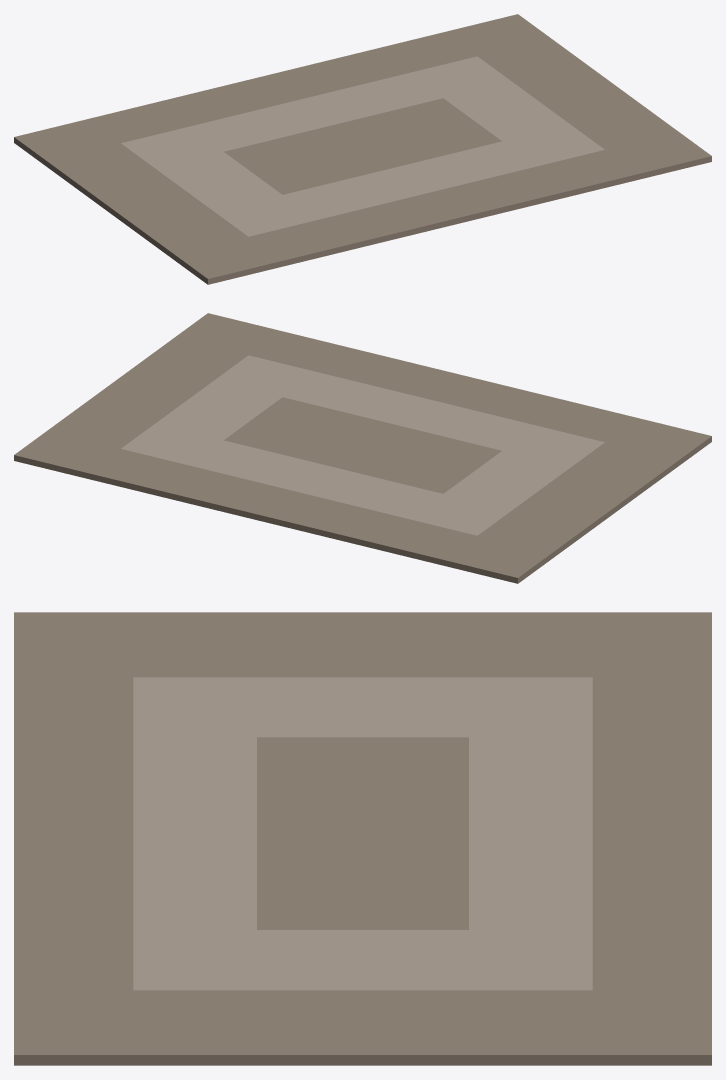
File: Carpet2_C3.fbx
The picture shows the model from 3 angles, top to bottom: view 1: azimuth 30°, elevation 25°; view 2: azimuth 150°, elevation 25°; view 3: azimuth 270°, elevation 25°; orthographic projection. The views are drawn at different scales.
Parts seen in each view (by area): view 1: Carpet2_C3; view 2: Carpet2_C3; view 3: Carpet2_C3.
Part boxes in pixels (bbox=[...]): Carpet2_C3: bbox=[14, 14, 711, 284]; Carpet2_C3: bbox=[14, 313, 711, 583]; Carpet2_C3: bbox=[14, 612, 711, 1065].
Bounding box in the file's own units: 90 × 1 × 60.
